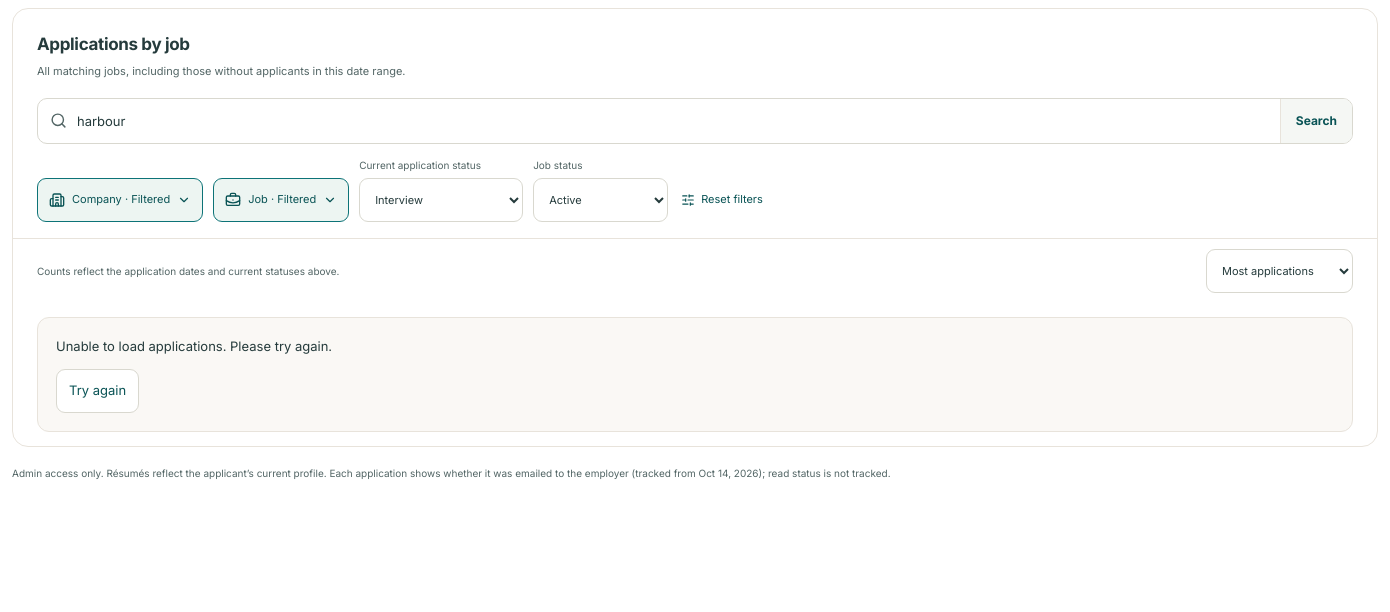
Scenario: Applications workspace private reads › shows a generic http failure and recovers on retry without changing filters
Check: the message shows "Unable to load applications. Please try again.", box [56,338,332,354]
What coordinates should you click on to do the following:
click the button "Try again"
I would click on:
 (98, 391)
Its box is [56,369,139,413].
(page scrolled)
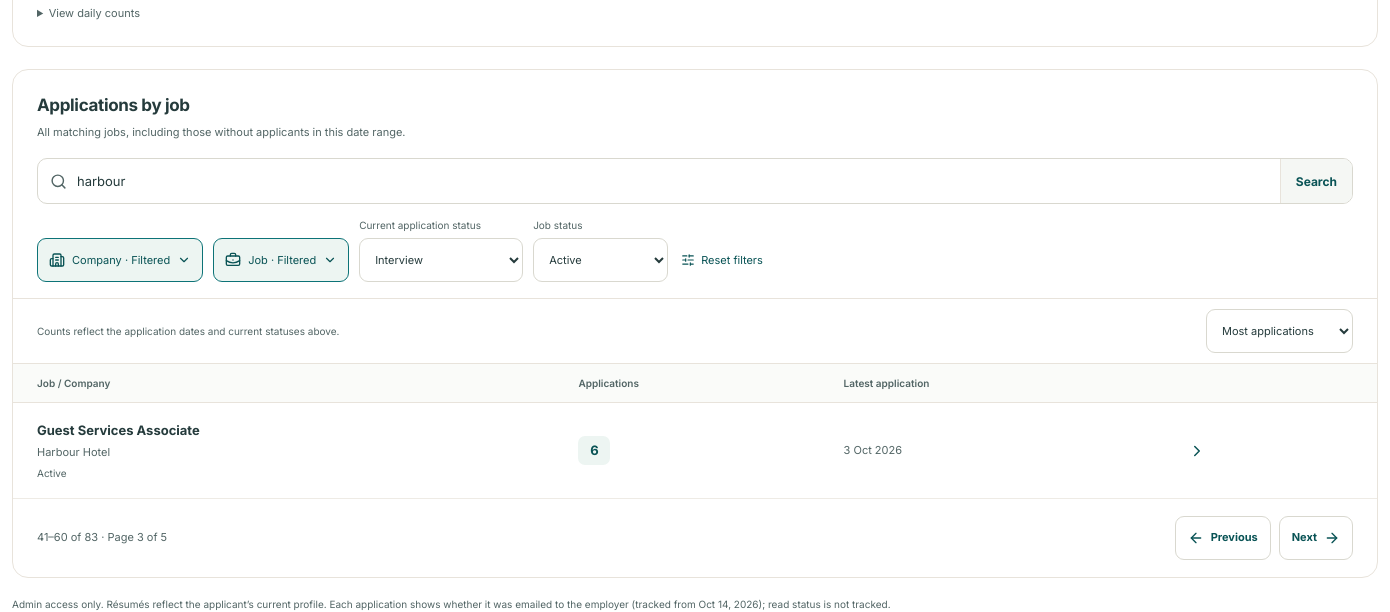
Check: the link "Guest Services Associate" is shown, box [37,422,200,438]
